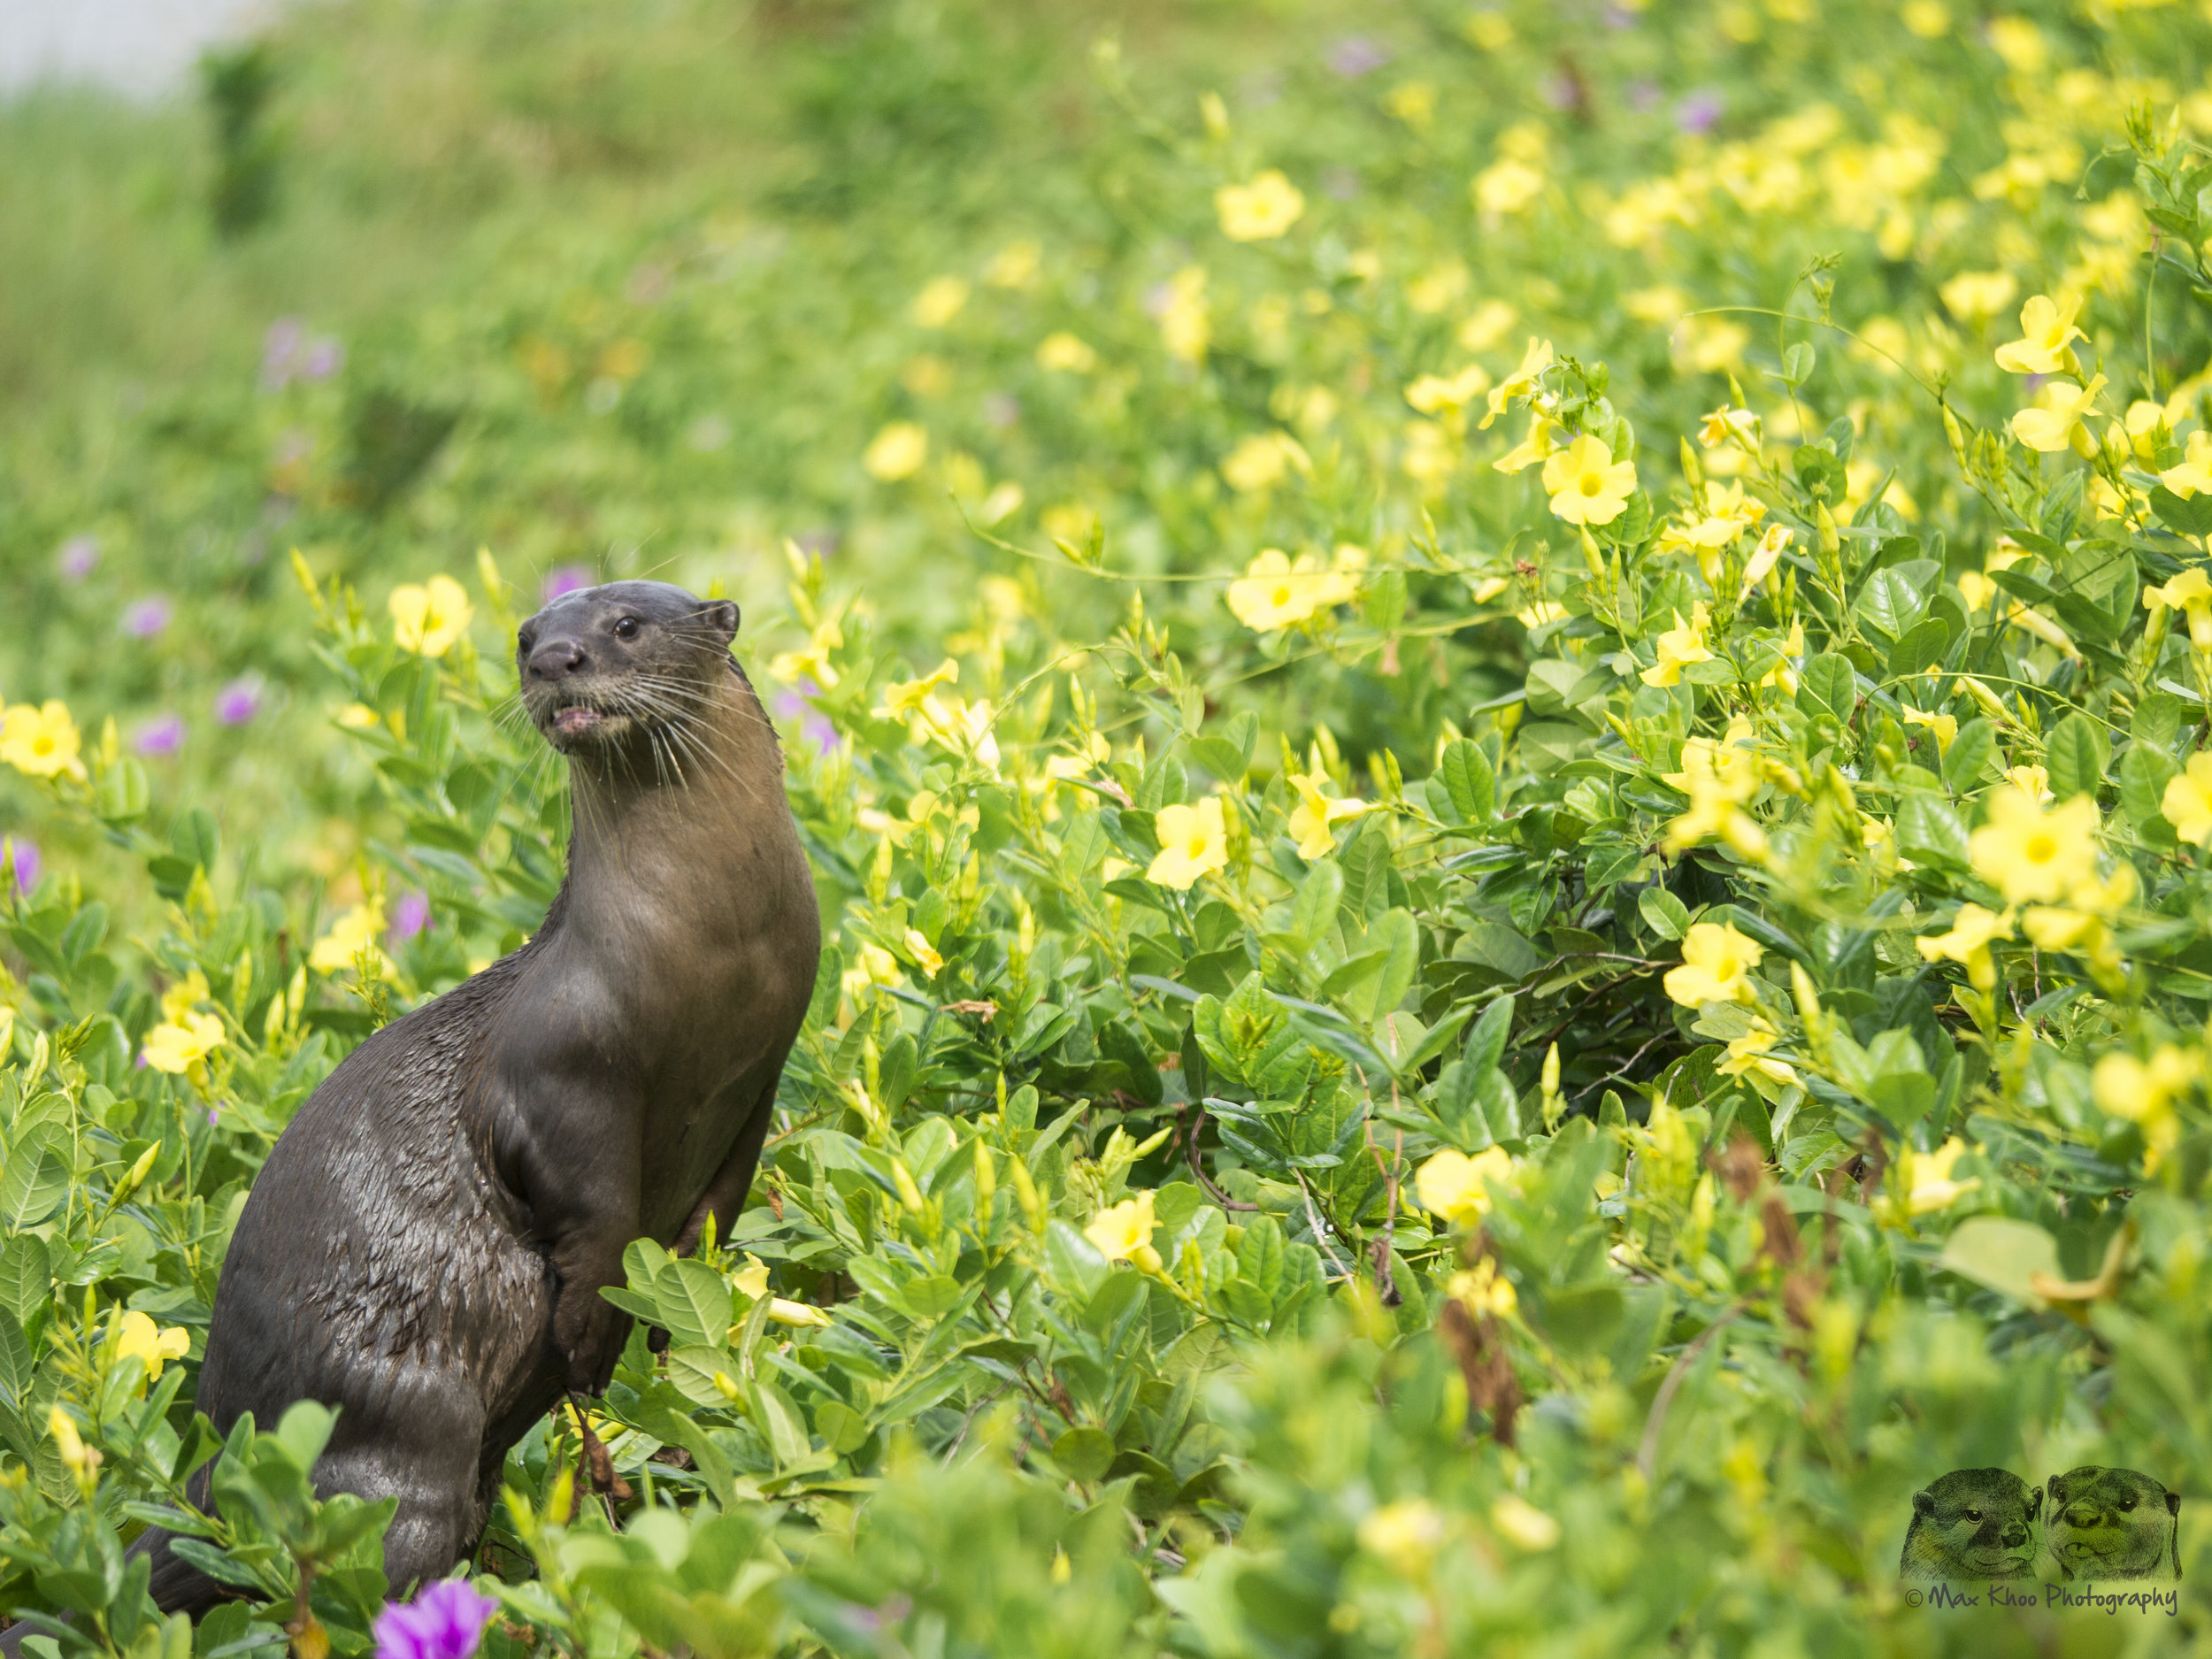otter: (157, 566, 840, 1591)
